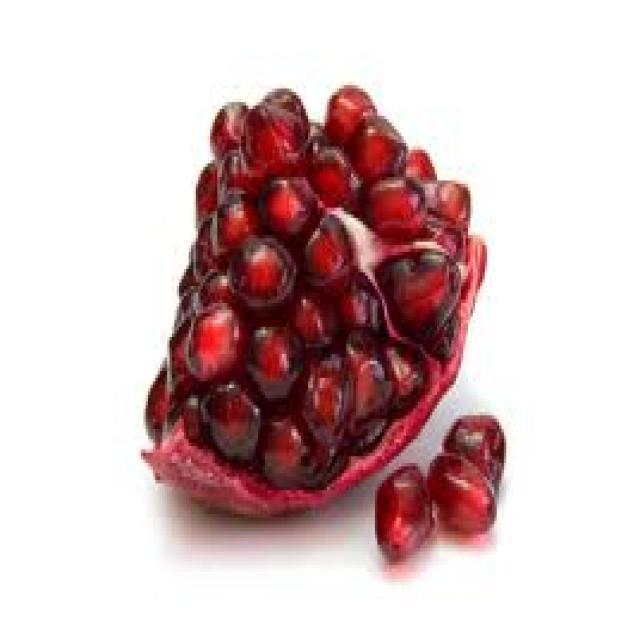Pomegranate: (134, 51, 552, 606)
